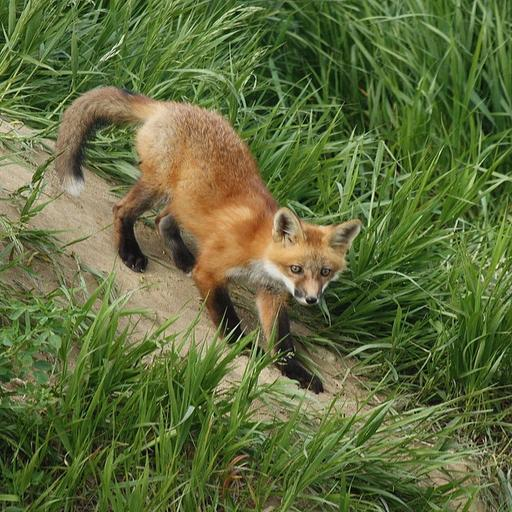Fox: (49, 75, 369, 402)
